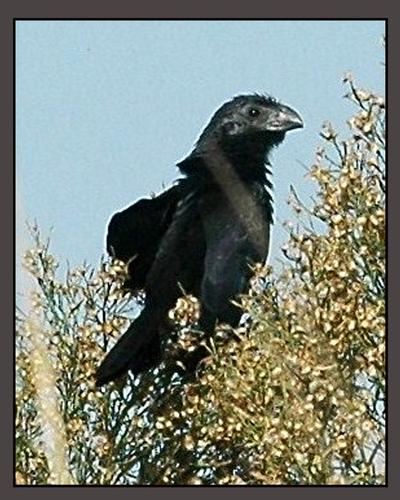004.Groove_billed_Ani: (95, 91, 305, 406)
